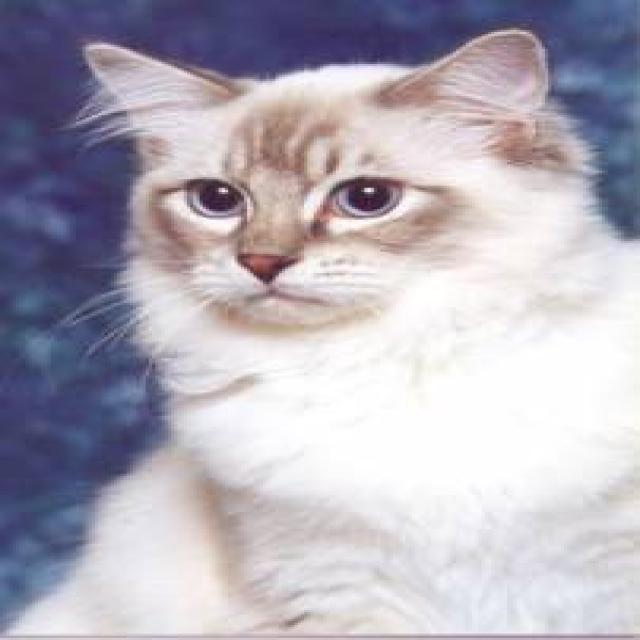Ragdoll: (88, 29, 606, 340)
